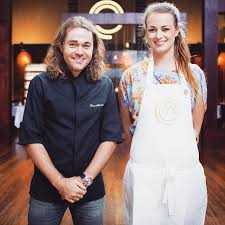Bad: (20, 2, 207, 225)
